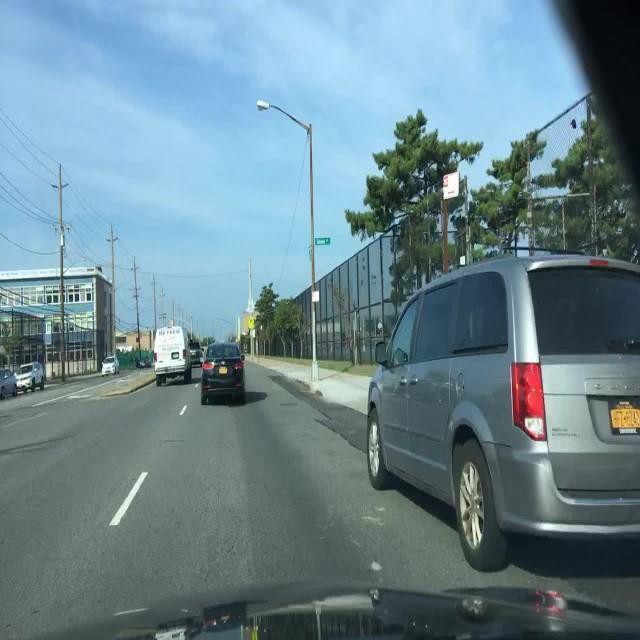normal: (191, 337, 268, 410)
